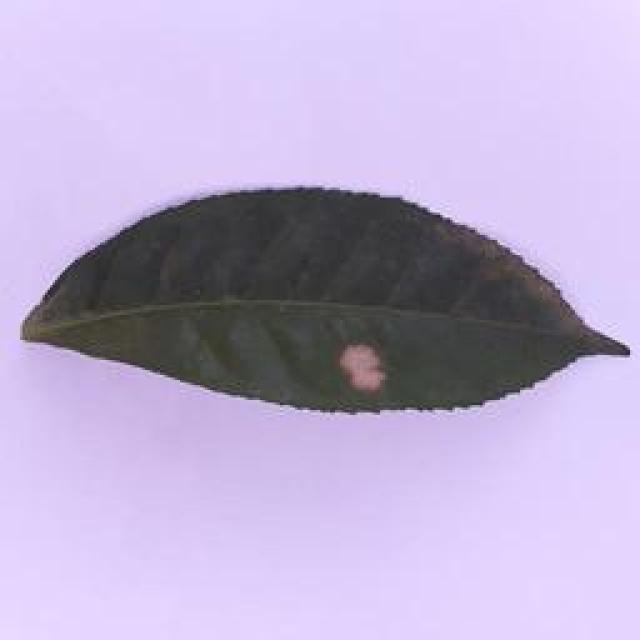Gray Blight: (11, 178, 640, 419)
